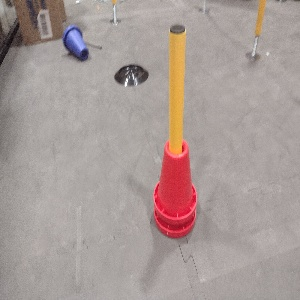Red_2: (151, 136, 198, 239)
